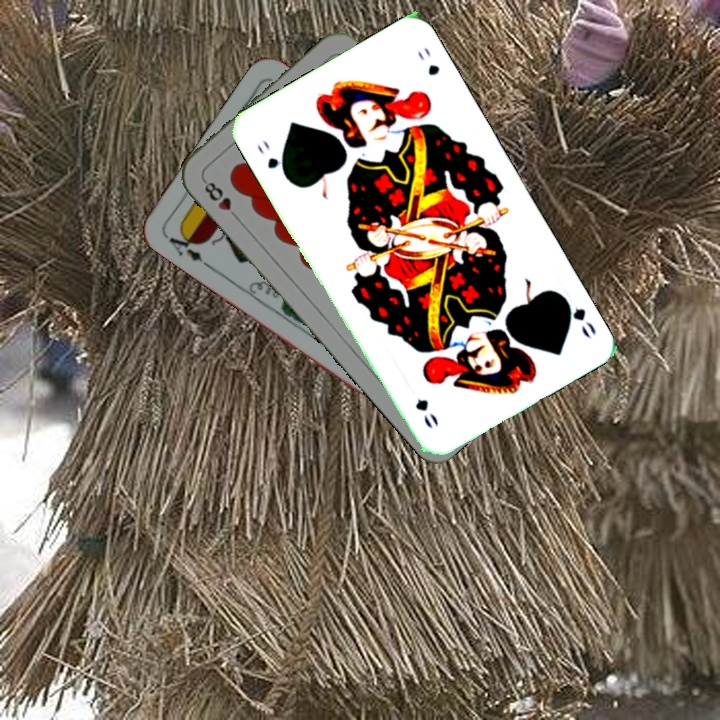EA: (161, 225, 205, 265)
GO: (556, 290, 599, 342), (253, 136, 291, 182)
H8: (199, 175, 243, 224)
